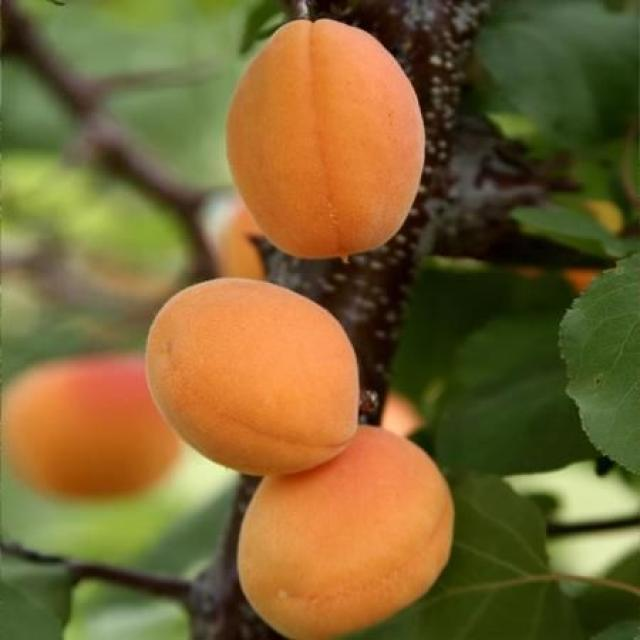kayisi: (223, 18, 425, 265), (237, 424, 454, 639), (148, 278, 357, 473)
